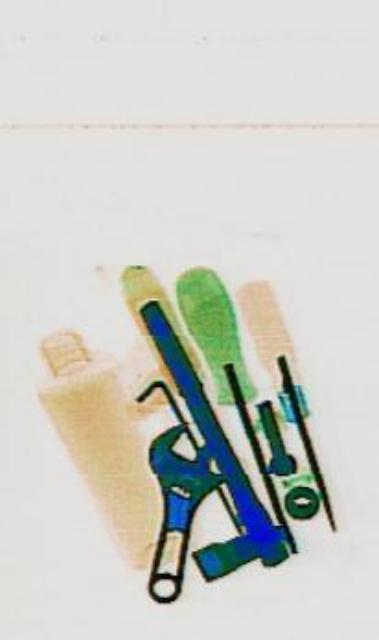Wrench: (117, 406, 230, 620)
